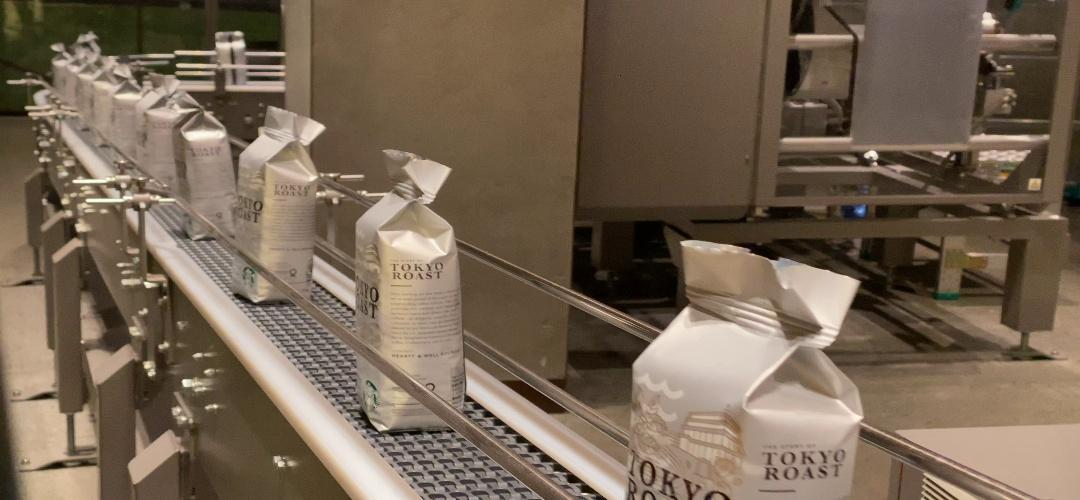conveyor: (630, 356, 858, 500), (353, 218, 461, 330), (230, 147, 318, 256)
